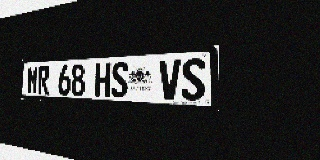6: (58, 64, 71, 95)
8: (71, 64, 85, 96)
H: (95, 63, 111, 97)
M: (27, 66, 38, 94)
R: (38, 66, 49, 95)
S: (181, 58, 205, 101), (111, 62, 128, 98)
V: (159, 59, 181, 100)
